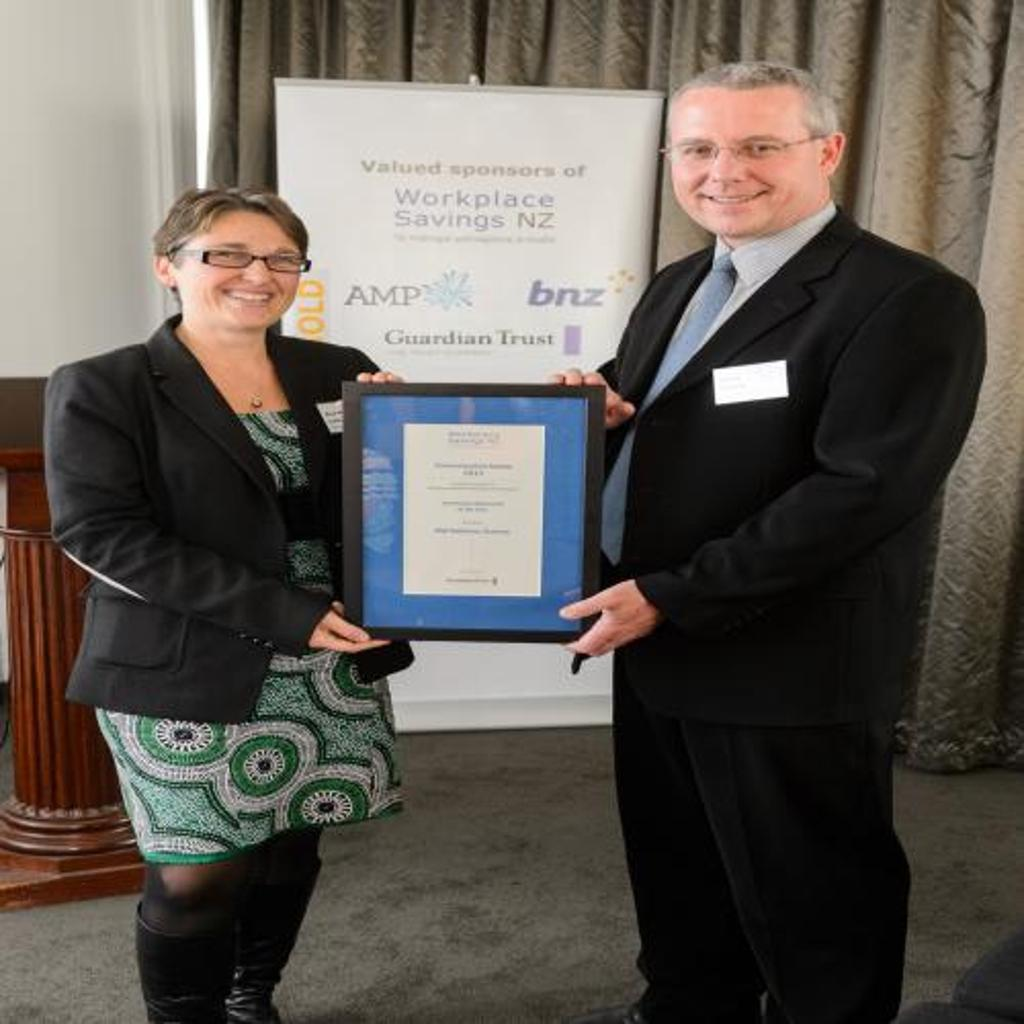face: (666, 86, 818, 230), (174, 208, 298, 332)
